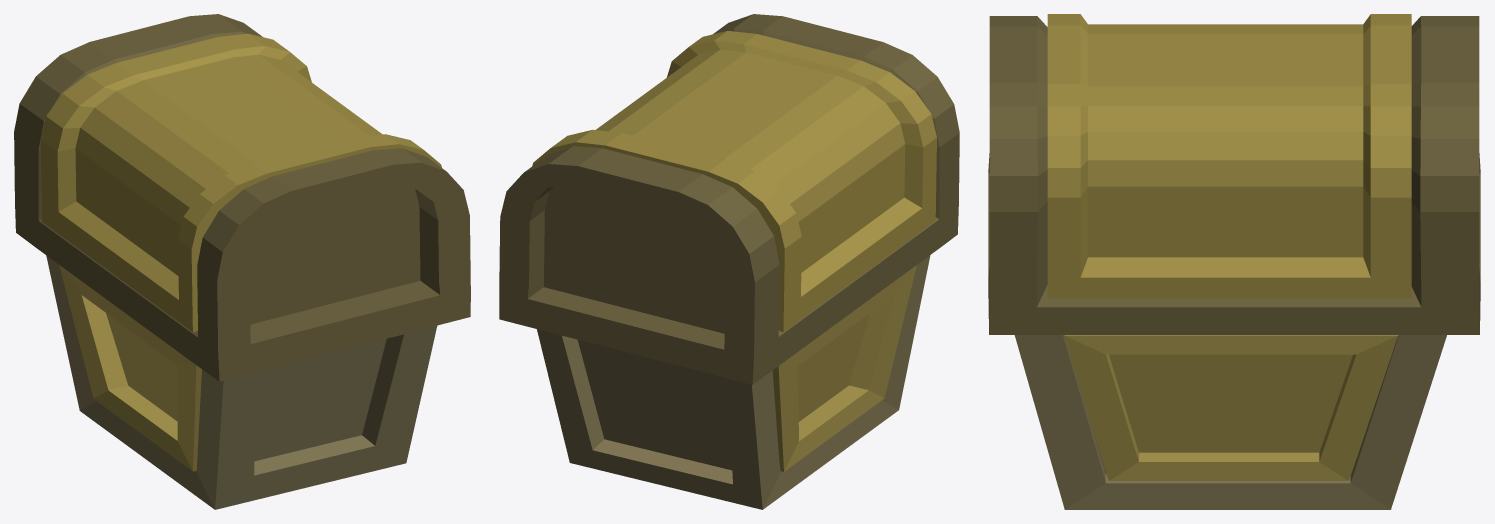
File: cofre-pequeno-a.fbx
3 renders of one model, left to right at view 1: azimuth 30°, elevation 25°; view 2: azimuth 150°, elevation 25°; view 3: azimuth 270°, elevation 25°, orthographic. The views are drawn at different scales.
Parts seen in each view (by area): view 1: cofre_pe_1, cofre_pe_3, cofre_pe_2, cofre_pe_4; view 2: cofre_pe_1, cofre_pe_3, cofre_pe_2, cofre_pe_4; view 3: cofre_pe_3, cofre_pe_1, cofre_pe_4, cofre_pe_2.
Boxes of the visible parts, <box> form: cofre_pe_1: <box>14,14,470,381</box>; cofre_pe_3: <box>40,33,441,332</box>; cofre_pe_2: <box>46,255,437,509</box>; cofre_pe_4: <box>59,265,202,471</box>; cofre_pe_1: <box>499,14,959,384</box>; cofre_pe_3: <box>532,31,936,331</box>; cofre_pe_2: <box>537,255,930,509</box>; cofre_pe_4: <box>772,265,916,471</box>; cofre_pe_3: <box>1047,14,1411,298</box>; cofre_pe_1: <box>988,16,1480,334</box>; cofre_pe_4: <box>1064,335,1398,480</box>; cofre_pe_2: <box>1014,335,1446,509</box>.
Bounding box in the file's own units: 5.79 × 7.16 × 7.98.
